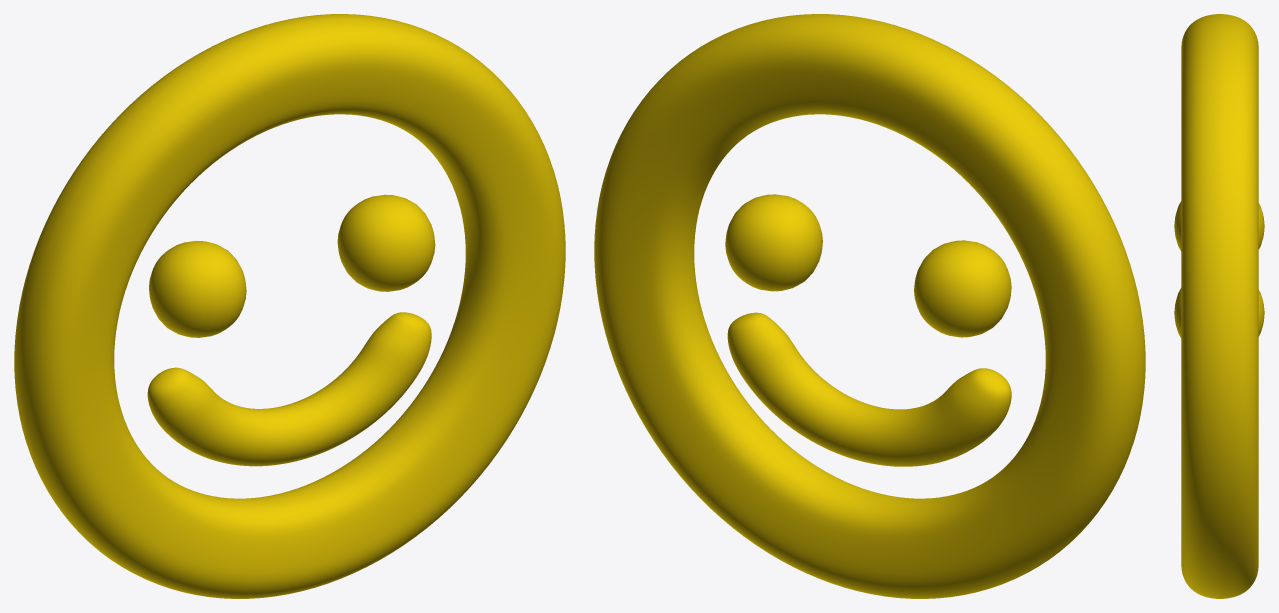
The model's file is smile_icon.glb.
3 views of the same model, side by side, from view 1: azimuth 30°, elevation 25°; view 2: azimuth 150°, elevation 25°; view 3: azimuth 270°, elevation 25° (orthographic). The views are drawn at different scales.
Visible parts, largest first — view 1: Circle, Torus.001, Cube, Cube.001; view 2: Circle, Torus.001, Cube, Cube.001; view 3: Circle, Cube, Cube.001.
Boxes of the visible parts, x1,y1,x2,y2 form: Circle: (14,14,565,598); Torus.001: (147,312,431,466); Cube: (337,194,435,291); Cube.001: (149,240,246,337); Circle: (594,14,1145,598); Torus.001: (727,312,1011,466); Cube: (725,194,822,291); Cube.001: (914,240,1011,337); Circle: (1181,14,1258,598); Cube: (1174,288,1264,337); Cube.001: (1174,201,1264,251).
Size of the model in its own units: 0.3191 by 0.3191 by 0.0493.
